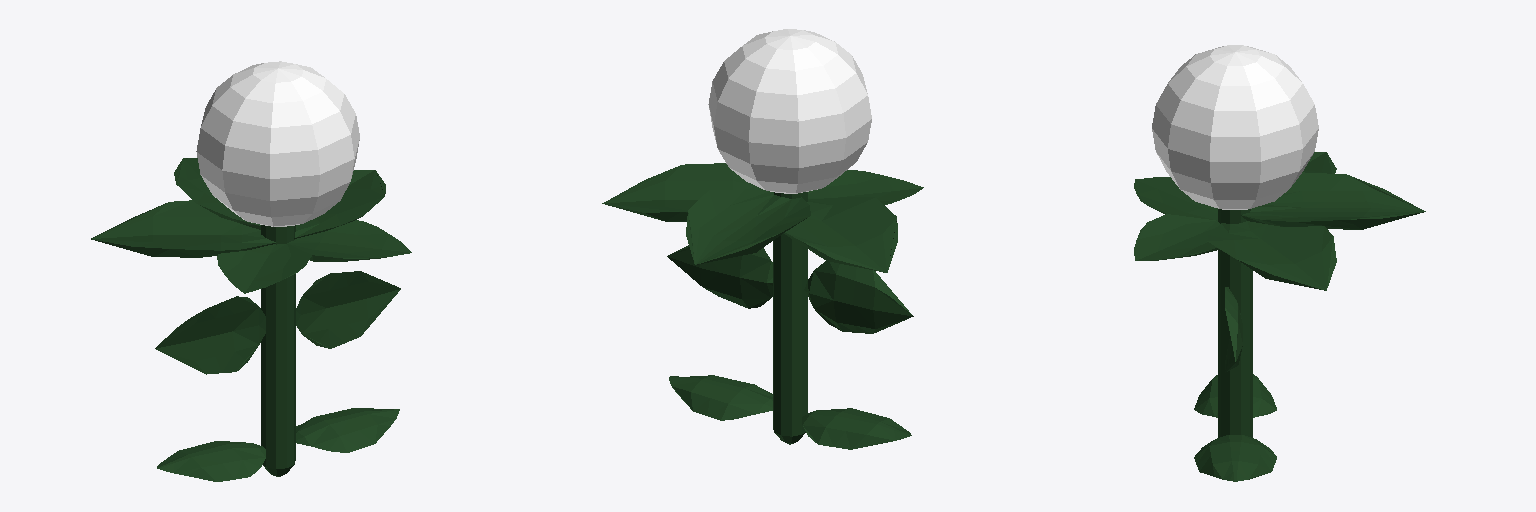
3 renders of one model, left to right at view 1: azimuth 30°, elevation 25°; view 2: azimuth 150°, elevation 25°; view 3: azimuth 270°, elevation 25°, orthographic.
Parts seen in each view (by area): view 1: pSphere9; view 2: pSphere9; view 3: pSphere9.
Boxes of the visible parts, box(x1,y1,x2,y2) form: pSphere9: box(91, 61, 411, 481); pSphere9: box(602, 29, 923, 449); pSphere9: box(1134, 45, 1425, 481).
Bounding box in the file's own units: 111 × 152 × 98.64.
Materials: 1 (1 with a texture image).